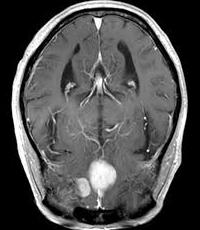Tumour-Meningioma: (69, 152, 127, 201)
